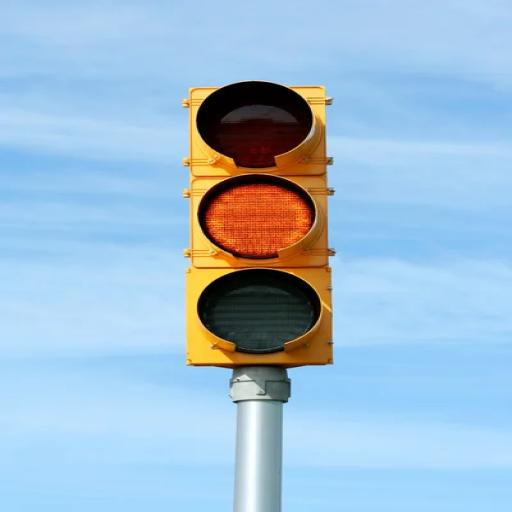traffic light: (183, 80, 333, 368)
